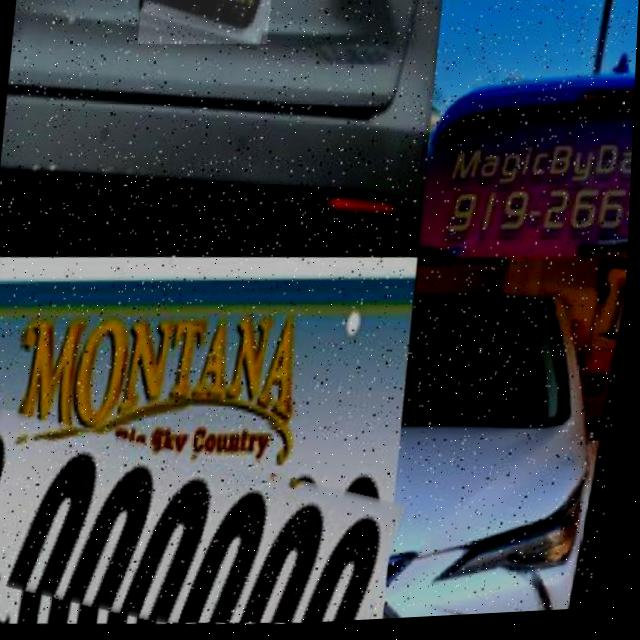LicensePlate: (0, 415, 412, 640), (138, 0, 273, 52)
